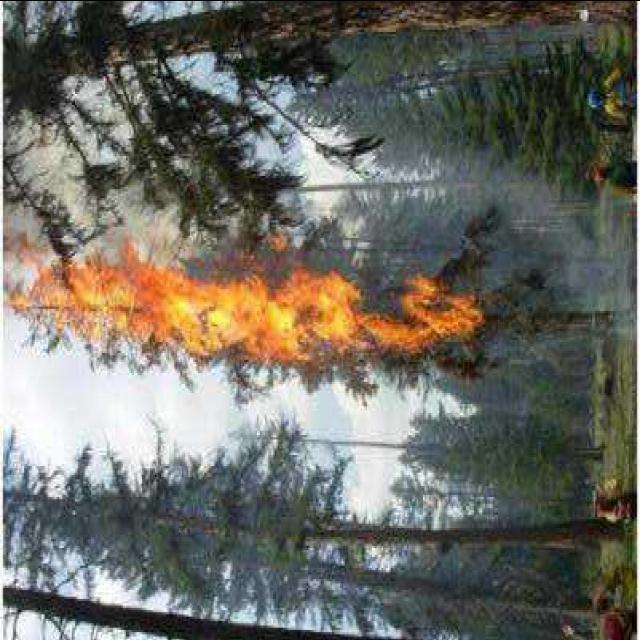Fire: (46, 237, 486, 370)
